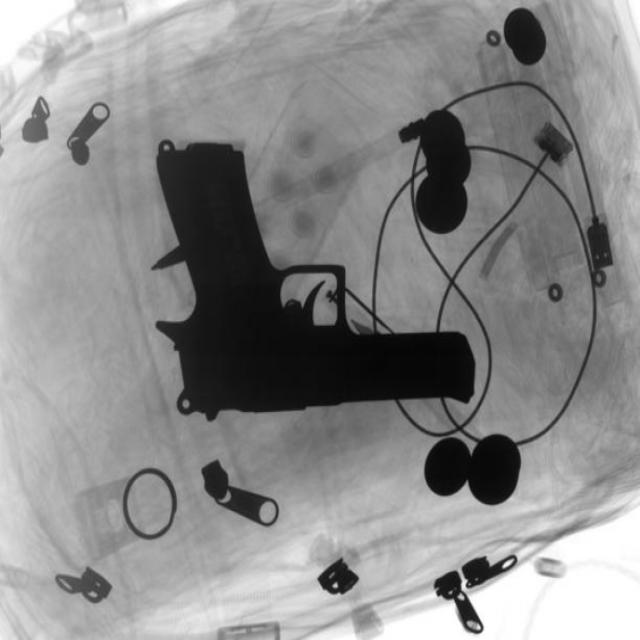GUN: (151, 141, 475, 436)
